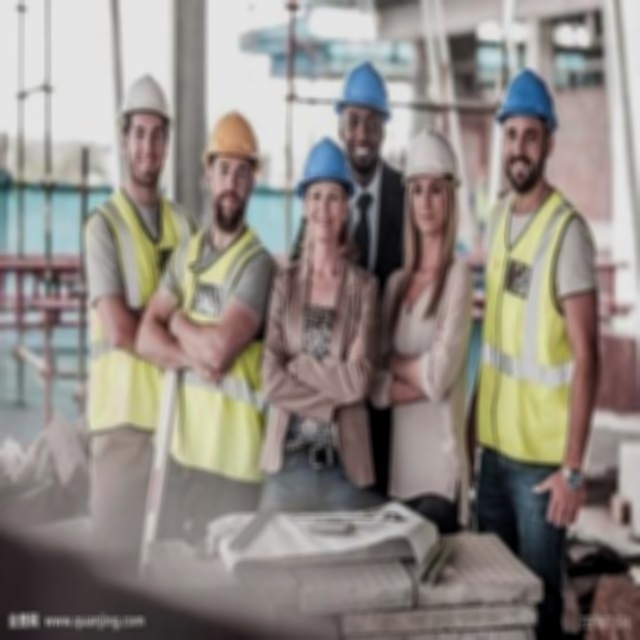Con_Casco: (120, 74, 173, 176)
Con_Chaleco: (481, 189, 599, 462), (162, 233, 266, 473)
Sin_Chaleco: (272, 253, 368, 471), (388, 263, 472, 488)
